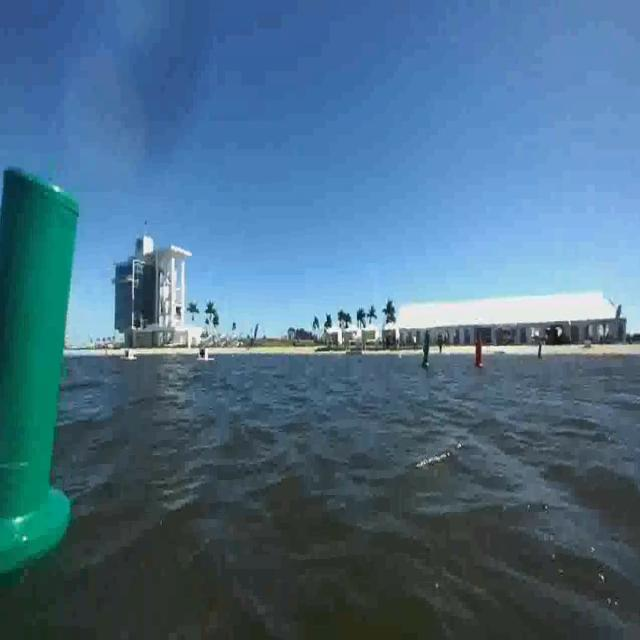green-column-buoy: (0, 164, 80, 542), (421, 330, 433, 370)
red-column-buoy: (473, 337, 484, 369)
